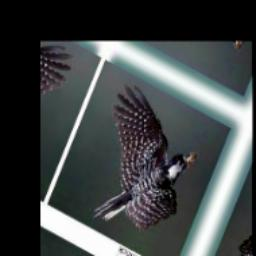Woodpecker: (69, 70, 217, 254)
